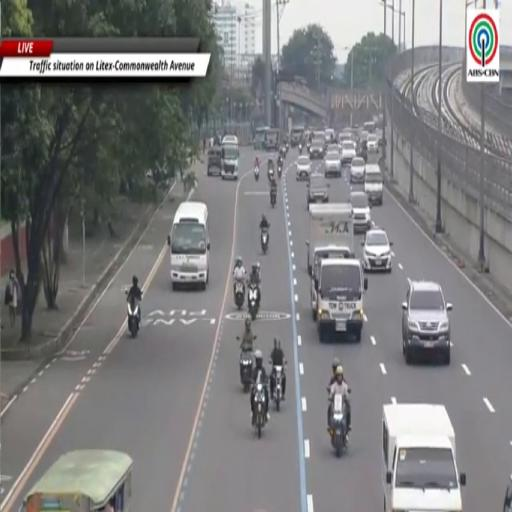bus: (168, 202, 209, 290), (254, 126, 269, 150)
car: (402, 280, 452, 364), (362, 228, 392, 273), (350, 191, 371, 233), (364, 164, 383, 204), (307, 173, 329, 206), (207, 146, 222, 176), (324, 152, 341, 177), (340, 141, 356, 166), (350, 157, 365, 183), (297, 155, 311, 181), (309, 141, 324, 159), (366, 134, 378, 153), (338, 132, 353, 146), (221, 134, 239, 145), (325, 128, 335, 143), (327, 143, 340, 153), (359, 131, 369, 143)
jeepney: (20, 450, 132, 511)
motorcycle: (330, 394, 347, 457), (254, 382, 266, 438), (271, 365, 284, 411), (240, 351, 253, 393), (128, 298, 140, 338), (248, 283, 259, 321), (234, 281, 244, 310), (261, 229, 268, 253), (270, 189, 276, 207), (254, 167, 259, 181), (268, 168, 273, 182), (278, 164, 282, 179), (299, 143, 302, 154)
truck: (382, 404, 465, 511), (314, 258, 368, 343), (306, 203, 353, 276)
